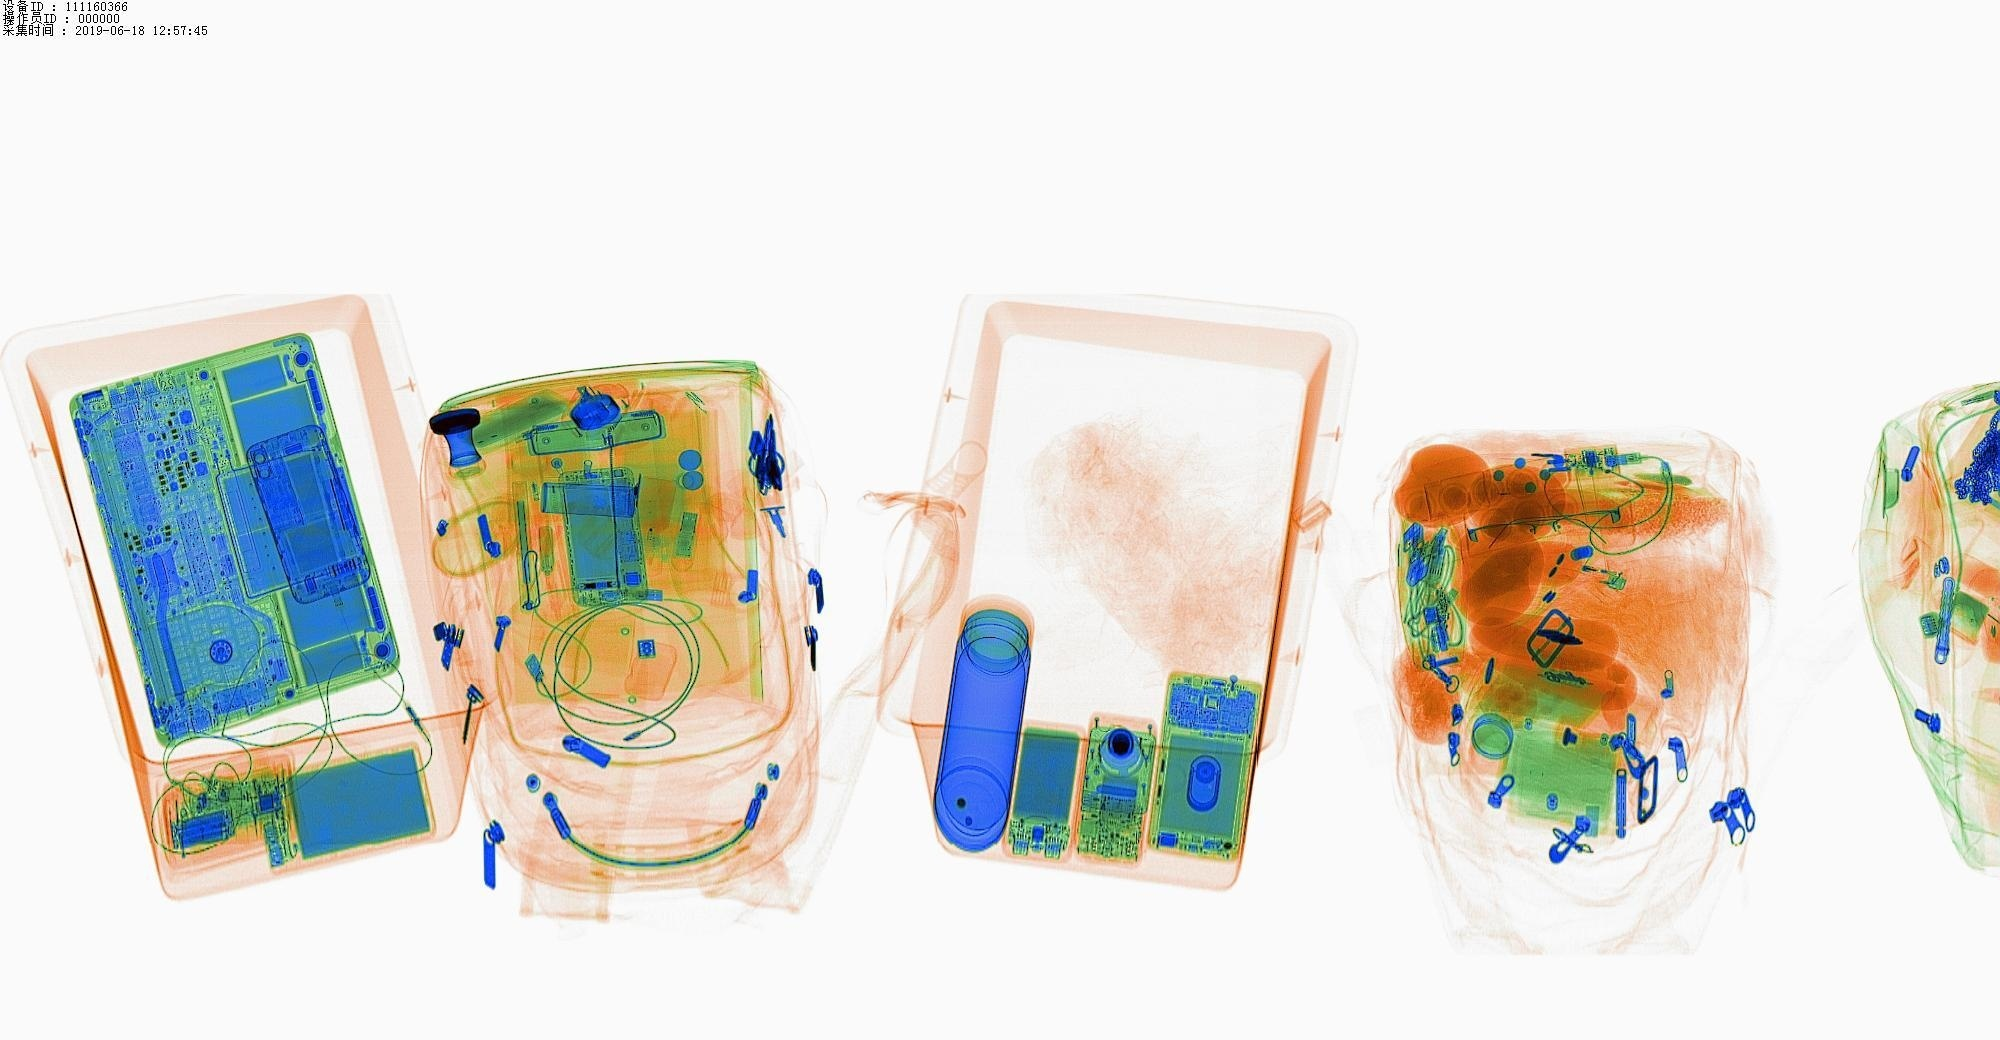NonmetallicFire: (1534, 545, 1669, 617)
